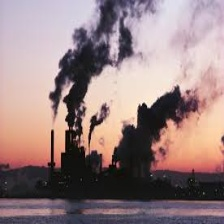smoke: (43, 5, 123, 121), (127, 82, 195, 169)
